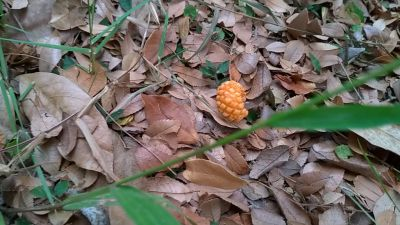eggs: (213, 77, 251, 125)
